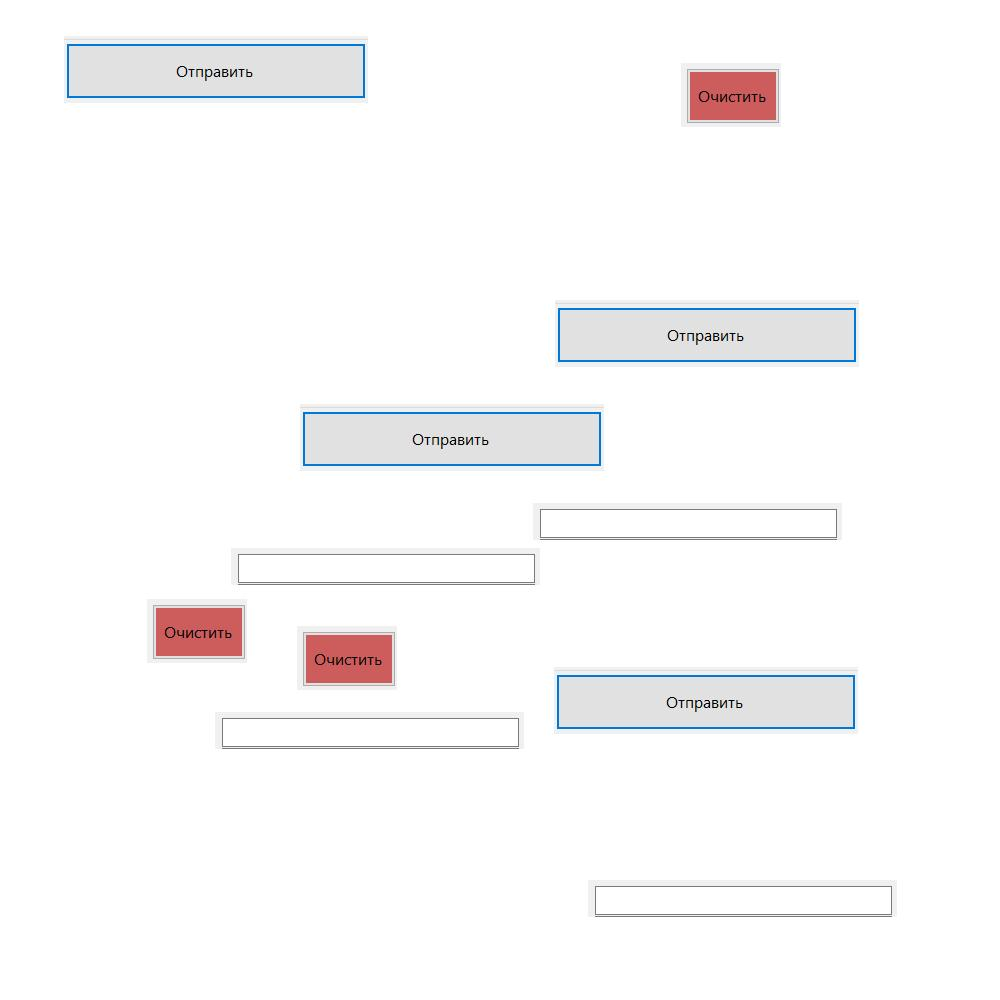Button: (555, 300, 859, 367), (64, 36, 368, 103), (300, 404, 604, 471), (554, 667, 858, 734), (147, 599, 247, 663), (681, 63, 781, 127), (297, 626, 397, 690)
EditText-: (231, 548, 540, 585), (533, 503, 842, 540), (215, 712, 524, 749), (588, 880, 897, 917)
